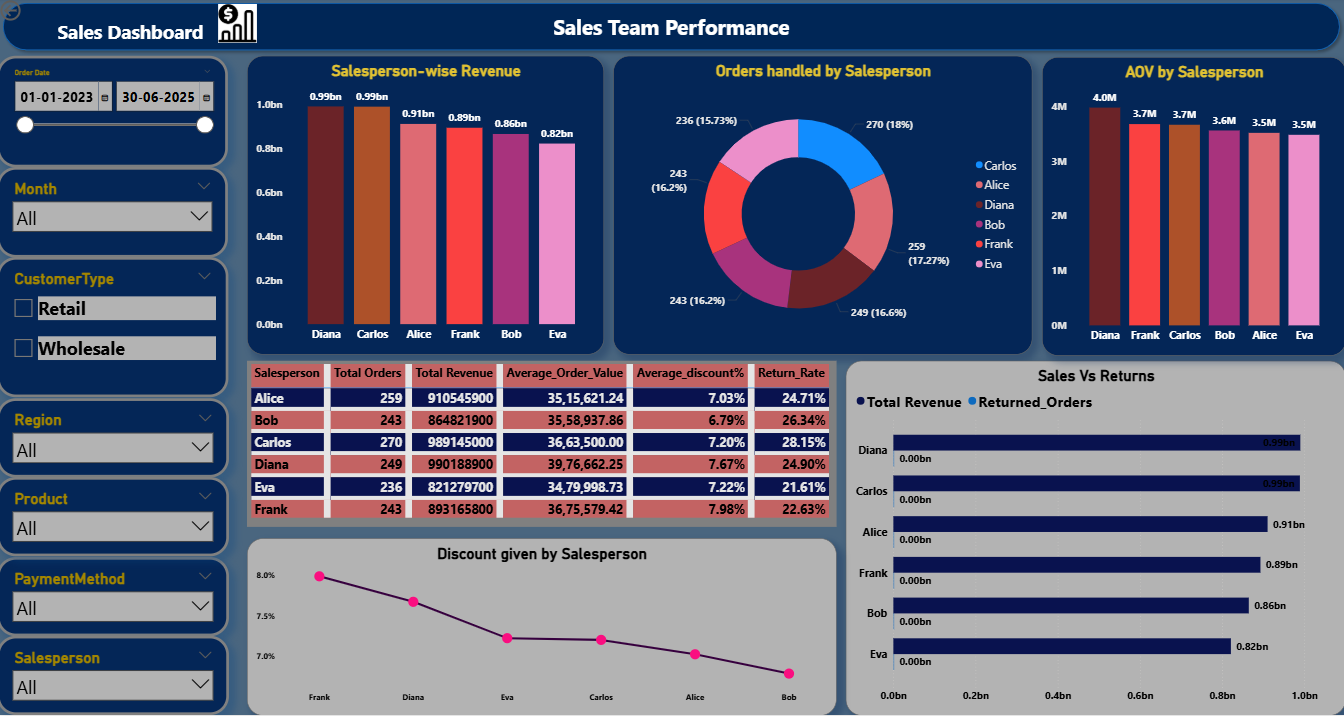

The page's visual inventory and layout, read from the dashboard file:
{"tool":"powerbi","page":{"name":"Sales Team Performance","canvas":[2000,1065],"ordinal":3},"visuals":[{"type":"shape","box":[0,0,2000.4,87.9],"z":0},{"type":"slicer","fields":{"Values":["Sales Dump.Order Date"]},"box":[0,86.5,342.2,165.6],"z":1000},{"type":"slicer","fields":{"Values":["Sales Dump.Order Date.Variation.Date Hierarchy.Month"]},"box":[0,252.1,342.2,134.3],"z":2000},{"type":"slicer","fields":{"Values":["Sales Dump.CustomerType"]},"box":[0,385.9,343.1,208],"z":3000},{"type":"slicer","fields":{"Values":["Sales Dump.Region"]},"box":[0,594.3,344.1,117.8],"z":4000},{"type":"slicer","fields":{"Values":["Sales Dump.PaymentMethod"]},"box":[0,829.9,344.1,117.8],"z":5000},{"type":"slicer","fields":{"Values":["Sales Dump.Salesperson"]},"box":[0,947.2,344.1,117.8],"z":6000},{"type":"slicer","fields":{"Values":["Sales Dump.Product"]},"box":[0,712.1,344.1,117.8],"z":7000},{"type":"clusteredColumnChart","title":"Salesperson-wise Revenue","fields":{"Category":["Sales Dump.Salesperson"],"Y":["Sales Dump.Total Revenue"]},"box":[371.7,86.5,529.9,443.4],"z":8000},{"type":"donutChart","title":"Orders  handled by Salesperson","fields":{"Category":["Sales Dump.Salesperson"],"Y":["Sales Dump.Total Orders"]},"box":[914.5,86.5,621.9,443.4],"z":9000},{"type":"tableEx","fields":{"Values":["Sales Dump.Salesperson","Sales Dump.Total Orders","Sales Dump.Total Revenue","Sales Dump.Average_Order_Value","Sales Dump.Average_discount%","Sales Dump.Return_Rate"]},"box":[371.7,539.1,874,246.6],"z":10000},{"type":"clusteredColumnChart","title":"AOV by Salesperson","fields":{"Category":["Sales Dump.Salesperson"],"Y":["Sales Dump.Average_Order_Value"]},"box":[1549.3,88.3,450.8,443.4],"z":11000},{"type":"actionButton","box":[0,0,100,40],"z":12000},{"type":"lineChart","title":"Discount given by Salesperson","fields":{"Category":["Sales Dump.Salesperson"],"Y":["Sales Dump.Average_discount%"]},"box":[371.7,802.3,874,263.1],"z":13000},{"type":"actionButton","box":[41.8,12.7,310.7,74.5],"z":14000},{"type":"image","box":[321.6,5.5,72.7,67.2],"z":15000},{"type":"map","fields":{"Category":["Sales Dump.Region"],"Y":["Sales Dump.Total Revenue"]},"box":[1246.4,539.6,754,525.1],"z":16000}]}

Visuals, with their boxes in screenshot pixels (x1, y1, x2, y2), scaled from the page's 2000x1065 canvas onto the 1344x716 screenshot:
shape: locate(0, 0, 1343, 59)
slicer - Sales Dump.Order Date: locate(0, 58, 230, 169)
slicer - Sales Dump.Order Date.Variation.Date Hierarchy.Month: locate(0, 169, 230, 260)
slicer - Sales Dump.CustomerType: locate(0, 259, 231, 399)
slicer - Sales Dump.Region: locate(0, 400, 231, 479)
slicer - Sales Dump.PaymentMethod: locate(0, 558, 231, 637)
slicer - Sales Dump.Salesperson: locate(0, 637, 231, 715)
slicer - Sales Dump.Product: locate(0, 479, 231, 558)
"Salesperson-wise Revenue" clusteredColumnChart: locate(250, 58, 606, 356)
"Orders  handled by Salesperson" donutChart: locate(615, 58, 1032, 356)
tableEx - Sales Dump.Salesperson x Sales Dump.Total Orders: locate(250, 362, 837, 528)
"AOV by Salesperson" clusteredColumnChart: locate(1041, 59, 1343, 357)
actionButton: locate(0, 0, 67, 27)
"Discount given by Salesperson" lineChart: locate(250, 539, 837, 715)
actionButton: locate(28, 9, 237, 59)
image: locate(216, 4, 265, 49)
map - Sales Dump.Region x Sales Dump.Total Revenue: locate(838, 363, 1343, 715)
